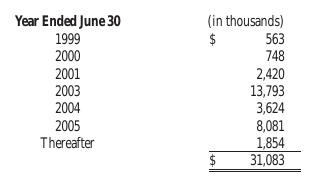table: (0, 0, 317, 191)
